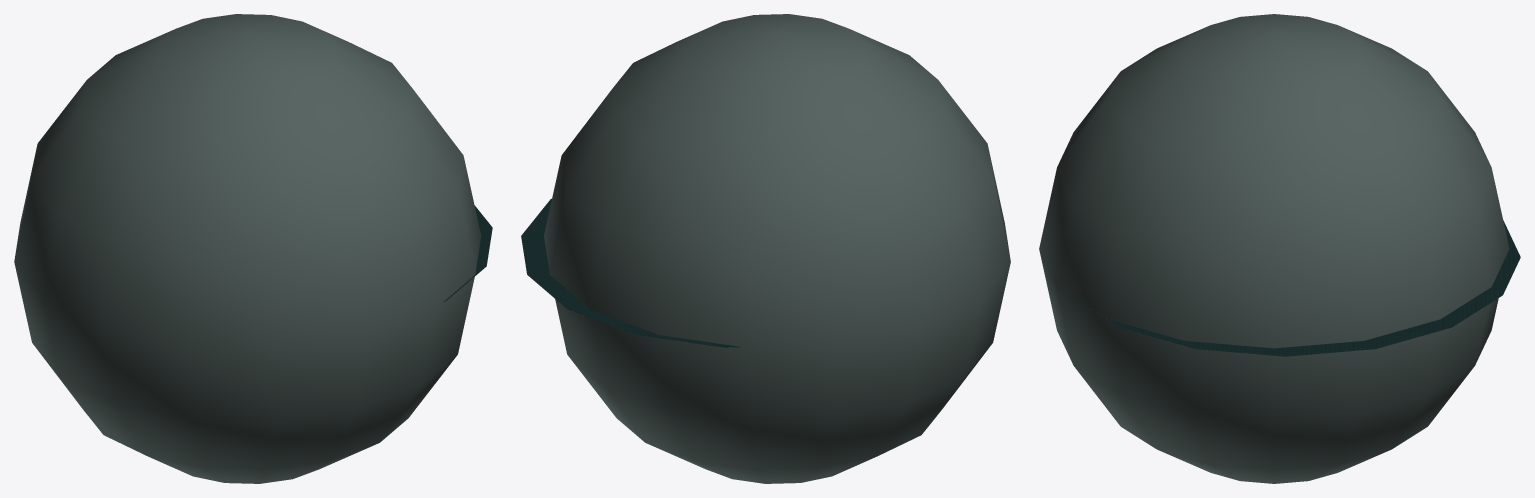
3 renders of one model, left to right at view 1: azimuth 30°, elevation 25°; view 2: azimuth 150°, elevation 25°; view 3: azimuth 270°, elevation 25°, orthographic.
Parts seen in each view (by area): view 1: 球体, 圆盘1; view 2: 球体, 圆盘1; view 3: 球体, 圆盘1.
Part boxes in pixels (x1,y1,x2,y2): 球体: (14, 14, 481, 483); 圆盘1: (444, 205, 492, 301); 球体: (544, 14, 1010, 483); 圆盘1: (521, 198, 741, 347); 球体: (1039, 14, 1509, 483); 圆盘1: (1068, 220, 1520, 356).
Size of the model in its own units: 1042 by 1000 by 1024.
13 materials, 7 textured.
